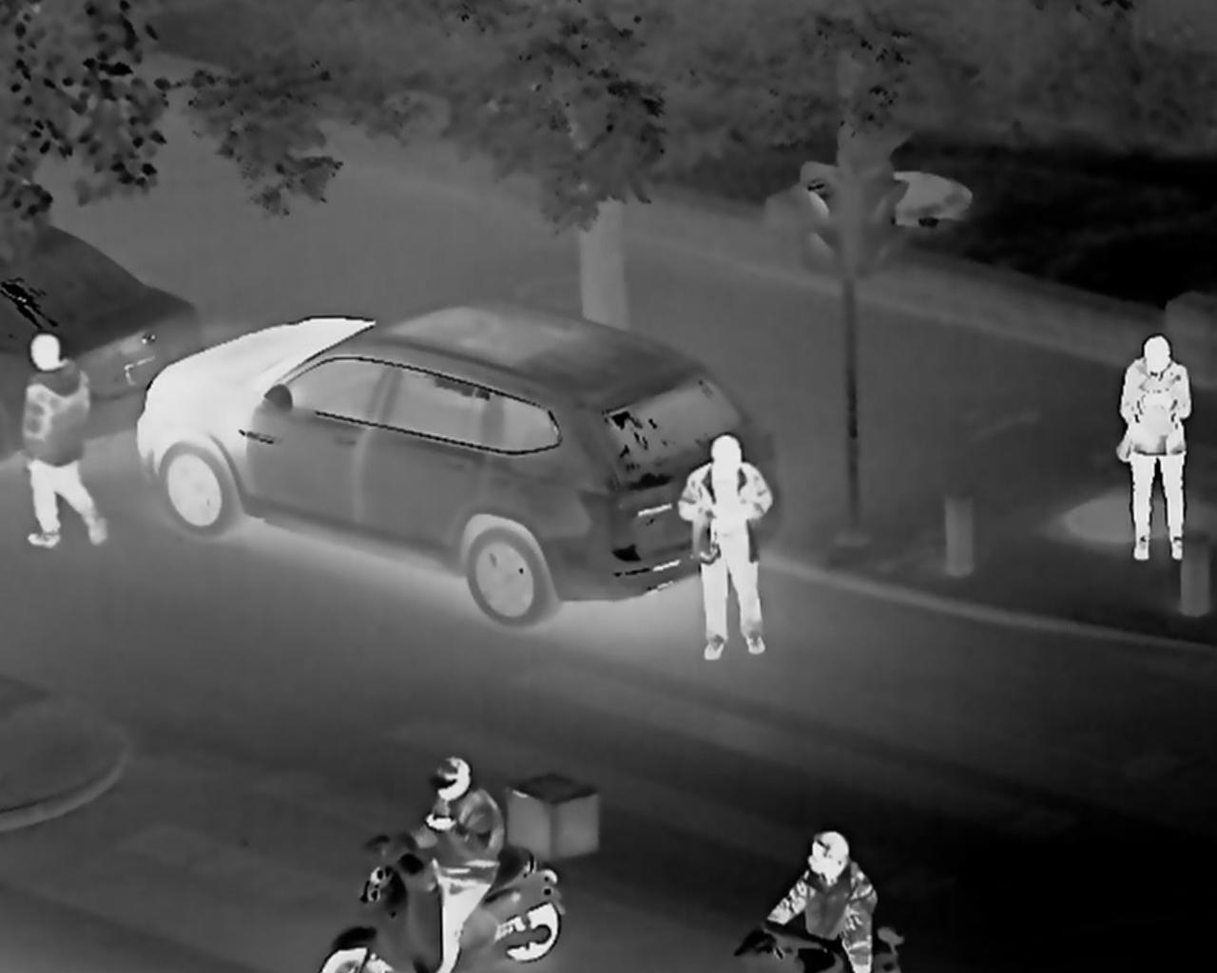person: (667, 429, 786, 654), (417, 756, 547, 929), (26, 333, 120, 543), (1107, 337, 1199, 536), (777, 831, 881, 962)
